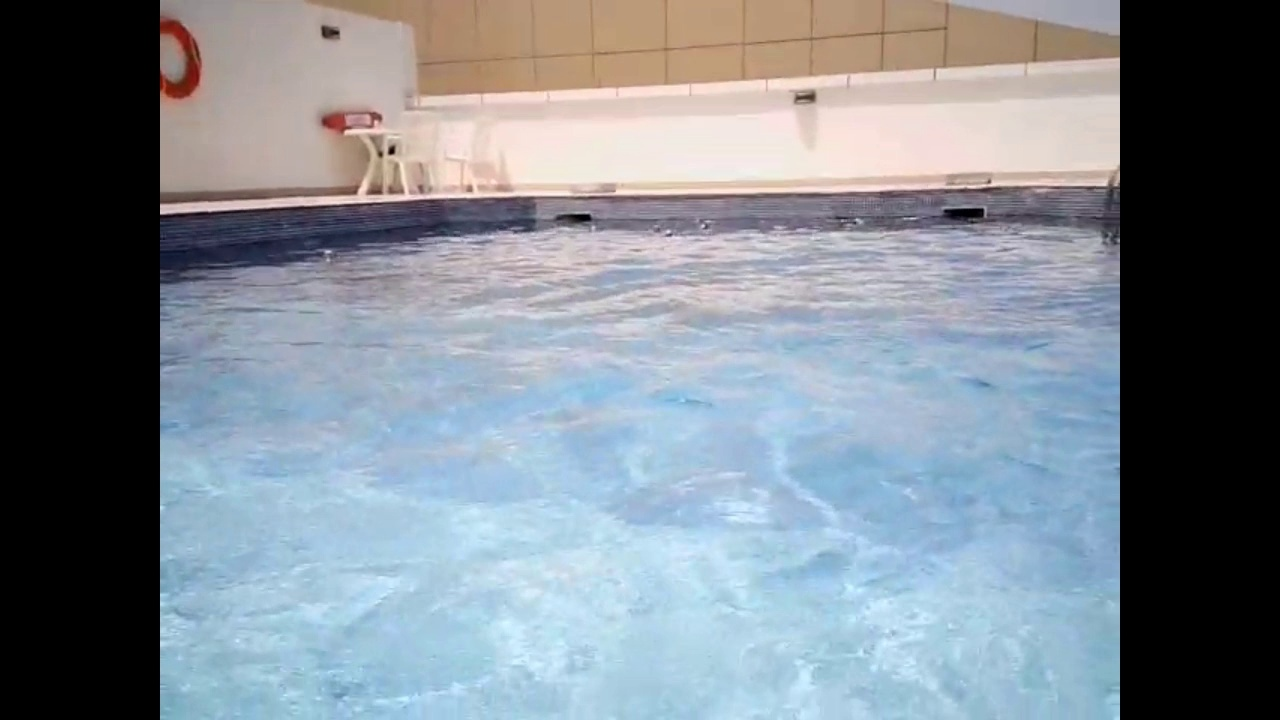debris: (316, 243, 342, 267), (697, 214, 723, 235), (646, 221, 666, 237), (658, 226, 679, 241)
